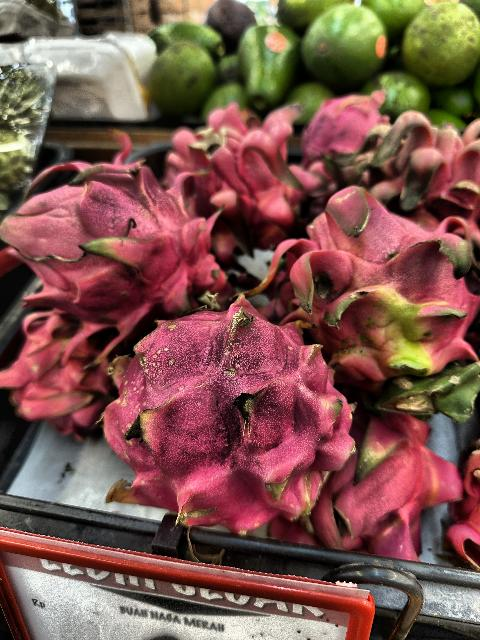buah-naga-belum-matang: (266, 178, 480, 428)
buah-naga-matang: (112, 303, 342, 523), (6, 152, 216, 318), (290, 406, 456, 556), (340, 100, 480, 234), (161, 107, 291, 236), (1, 312, 116, 428), (302, 80, 386, 150)
